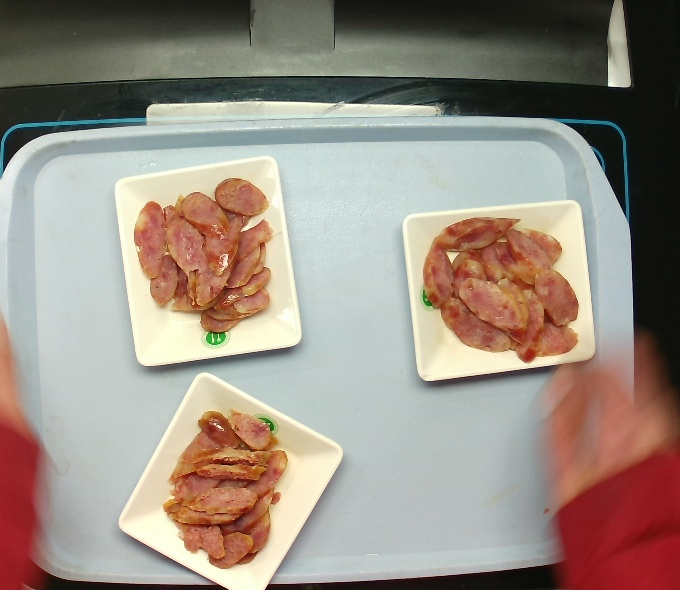wcq-QiePianXiangChang: (158, 412, 303, 570), (126, 181, 271, 339), (425, 215, 573, 359)
